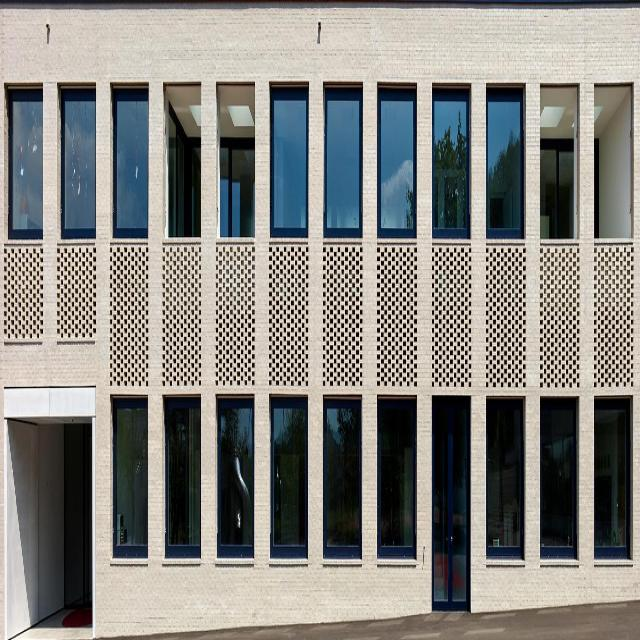door: (432, 400, 470, 606), (62, 418, 94, 604)
windows: (323, 398, 363, 560), (594, 392, 632, 556), (377, 396, 415, 556), (324, 87, 362, 241), (217, 400, 254, 557), (487, 398, 523, 559), (540, 396, 576, 554), (272, 398, 307, 559), (165, 398, 200, 557), (378, 91, 417, 233), (432, 93, 470, 238), (272, 90, 308, 240), (114, 400, 148, 556), (112, 97, 148, 240), (487, 91, 522, 235), (61, 90, 95, 234), (169, 98, 202, 238), (10, 92, 40, 232), (220, 136, 254, 239), (539, 136, 573, 236)
